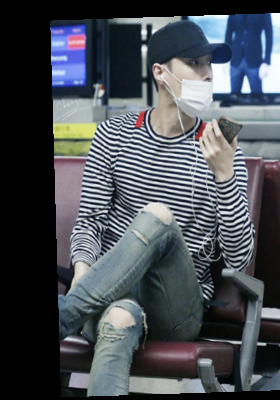mask_weared_incorrect: (142, 22, 239, 128)
